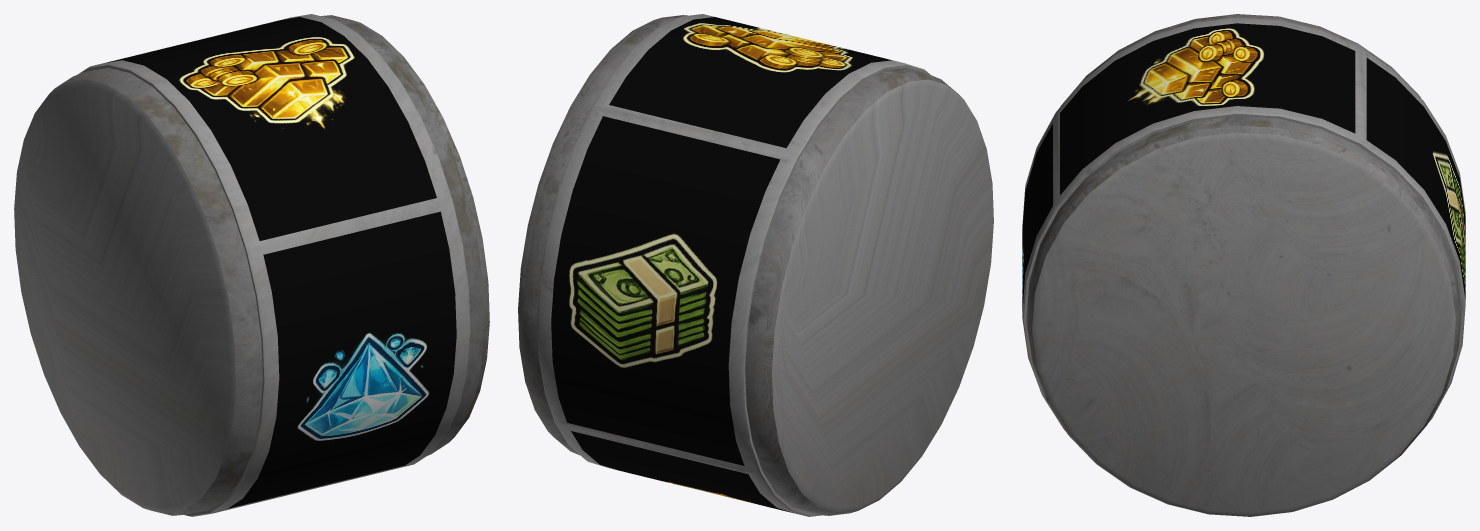
File: SlotMachine-Reel-02.glb
The picture shows the model from 3 angles, left to right: view 1: azimuth 30°, elevation 25°; view 2: azimuth 150°, elevation 25°; view 3: azimuth 270°, elevation 25°; orthographic projection. The views are drawn at different scales.
Visible parts, largest first — view 1: SlotMachine-Reel-02; view 2: SlotMachine-Reel-02; view 3: SlotMachine-Reel-02.
Boxes of the visible parts, x1,y1,x2,y2 form: SlotMachine-Reel-02: (14,14,489,516); SlotMachine-Reel-02: (518,14,993,516); SlotMachine-Reel-02: (1022,14,1465,516).
Bounding box in the file's own units: 0.5317 × 0.8249 × 0.8249.
6 materials, 6 textured.
